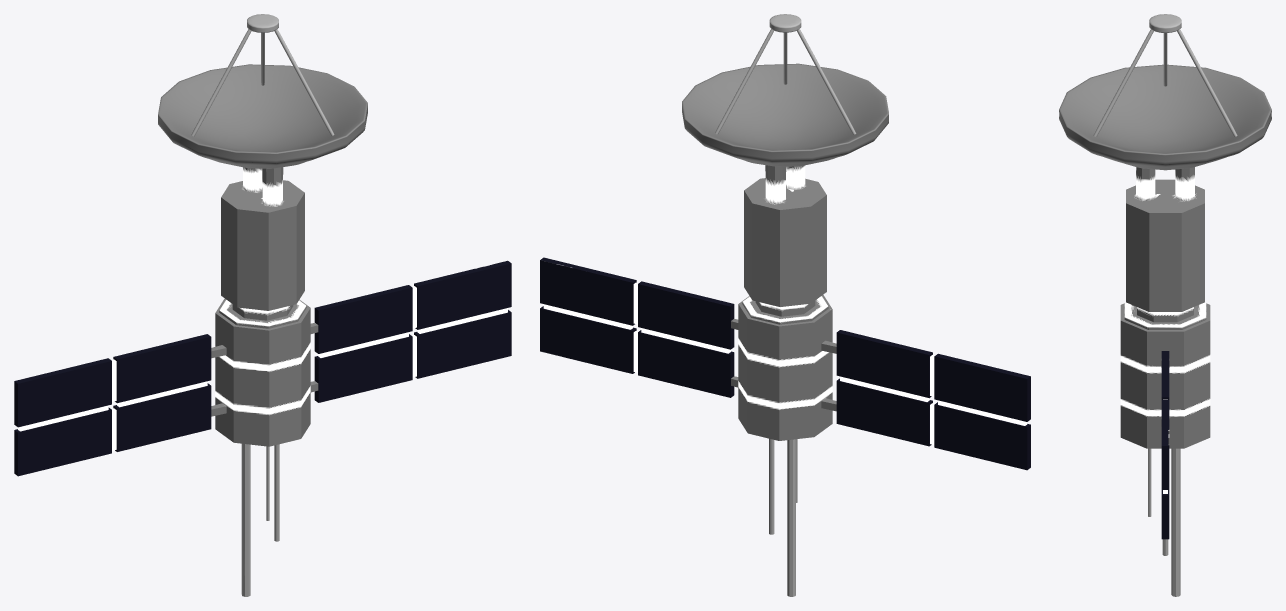
Rendered from sataliteLit.fbx.
3 renders of one model, left to right at view 1: azimuth 30°, elevation 25°; view 2: azimuth 150°, elevation 25°; view 3: azimuth 270°, elevation 25°, orthographic. The views are drawn at different scales.
Visible parts, largest first — view 1: Body, Dish, Solar_Panel1, Solar_Panel6, Solar_Panel4, Solar_Panel, Solar_Panel2, Solar_Panel7, Solar_Panel5, Solar_Panel3, Antenae2; view 2: Body, Dish, Solar_Panel6, Solar_Panel1, Solar_Panel4, Solar_Panel, Solar_Panel7, Solar_Panel2, Solar_Panel5, Solar_Panel3, Antenae2; view 3: Body, Dish, Antenae2, Solar_Panel, pCylinder9, pCylinder8, pCylinder6, Solar_Panel1, Solar_Panel3.
Boxes of the visible parts, bbox=[...] form: Body: bbox=[211, 167, 318, 446]; Dish: bbox=[158, 64, 367, 168]; Solar_Panel1: bbox=[314, 285, 412, 353]; Solar_Panel6: bbox=[14, 358, 111, 427]; Solar_Panel4: bbox=[113, 334, 211, 403]; Solar_Panel: bbox=[414, 260, 511, 329]; Solar_Panel2: bbox=[314, 334, 412, 402]; Solar_Panel7: bbox=[14, 407, 111, 476]; Solar_Panel5: bbox=[113, 383, 211, 451]; Solar_Panel3: bbox=[414, 310, 511, 378]; Antenae2: bbox=[241, 443, 250, 596]; Body: bbox=[731, 165, 836, 440]; Dish: bbox=[682, 63, 888, 166]; Solar_Panel6: bbox=[934, 353, 1030, 421]; Solar_Panel1: bbox=[638, 281, 734, 349]; Solar_Panel4: bbox=[836, 330, 932, 398]; Solar_Panel: bbox=[540, 257, 636, 325]; Solar_Panel7: bbox=[934, 402, 1030, 470]; Solar_Panel2: bbox=[638, 330, 734, 397]; Solar_Panel5: bbox=[836, 378, 932, 446]; Solar_Panel3: bbox=[540, 306, 636, 373]; Antenae2: bbox=[787, 439, 795, 596]; Body: bbox=[1120, 167, 1210, 448]; Dish: bbox=[1059, 64, 1271, 170]; Antenae2: bbox=[1171, 448, 1180, 596]; Solar_Panel: bbox=[1161, 399, 1169, 489]; pCylinder9: bbox=[1177, 29, 1237, 136]; pCylinder8: bbox=[1093, 29, 1153, 136]; pCylinder6: bbox=[1149, 14, 1181, 32]; Solar_Panel1: bbox=[1161, 351, 1169, 399]; Solar_Panel3: bbox=[1161, 490, 1169, 539].
Bounding box in the file's own units: 11.84 × 13.21 × 4.39.
